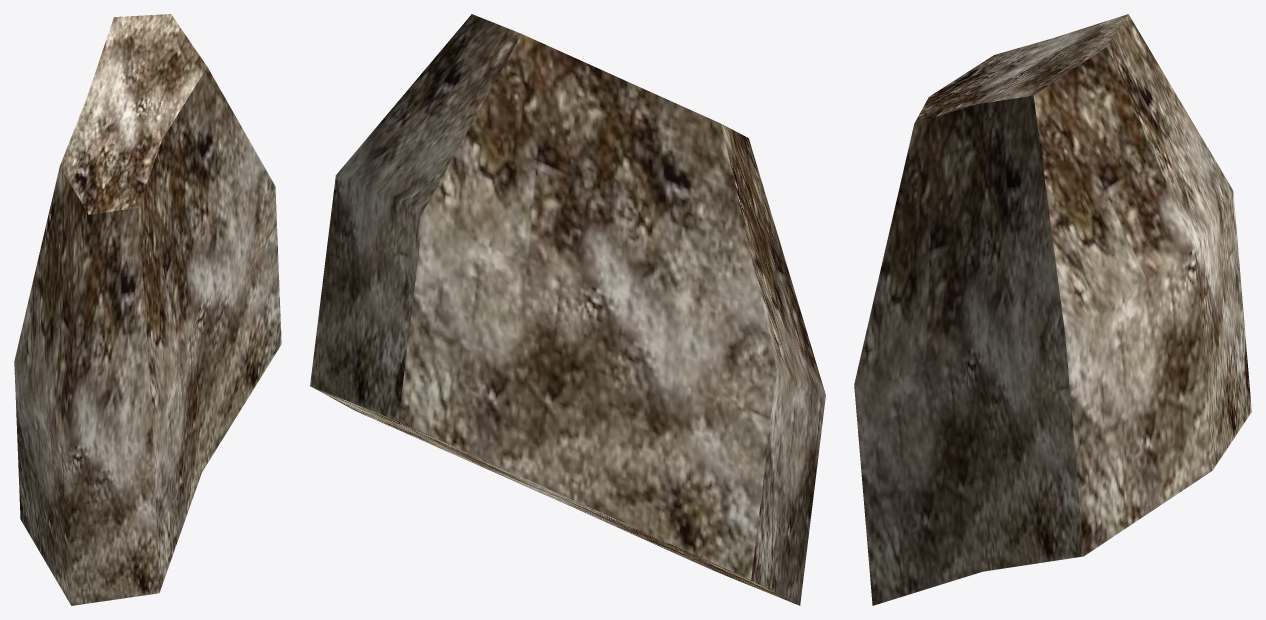
3 renders of one model, left to right at view 1: azimuth 30°, elevation 25°; view 2: azimuth 150°, elevation 25°; view 3: azimuth 270°, elevation 25°, orthographic. The views are drawn at different scales.
Parts seen in each view (by area): view 1: Object14; view 2: Object14; view 3: Object14.
Part boxes in pixels (<box>): Object14: <box>14,14,281,605</box>; Object14: <box>310,14,825,605</box>; Object14: <box>854,14,1251,605</box>.
Size of the model in its own units: 85.17 by 132 by 75.95.
